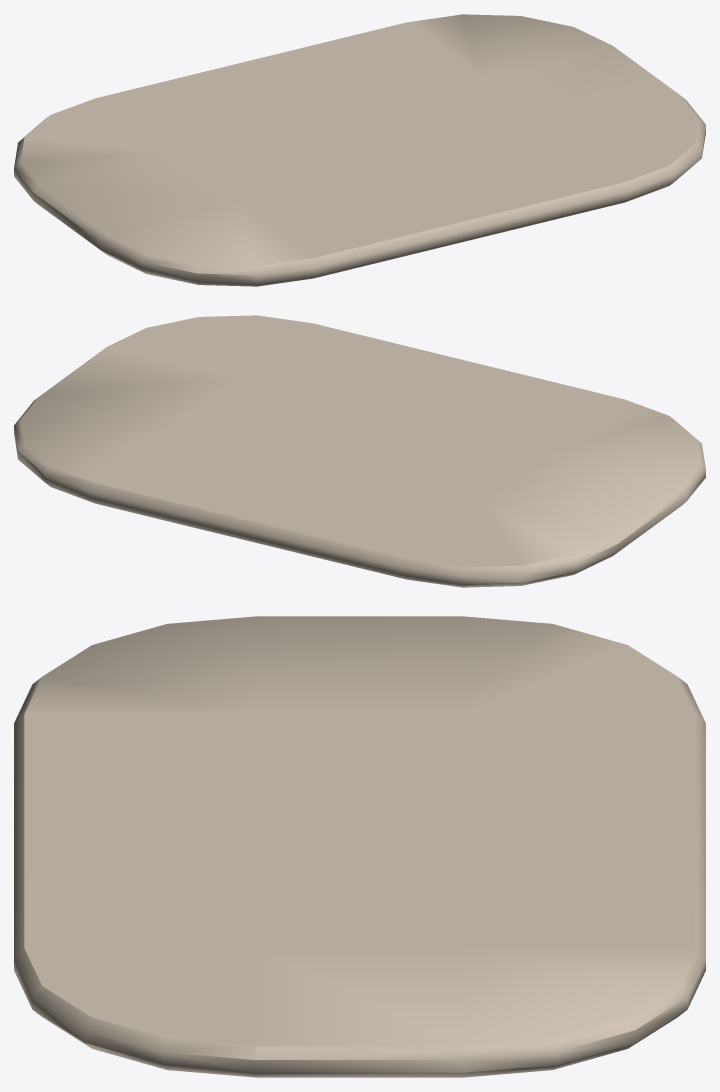
File: rug_oval_A.obj
3 renders of one model, top to bottom at view 1: azimuth 30°, elevation 25°; view 2: azimuth 150°, elevation 25°; view 3: azimuth 270°, elevation 25°, orthographic. The views are drawn at different scales.
Visible parts, largest first — view 1: rug_oval_A_Cube.021; view 2: rug_oval_A_Cube.021; view 3: rug_oval_A_Cube.021.
Boxes of the visible parts, x1=… form: rug_oval_A_Cube.021: x1=14, y1=14, x2=705, y2=286; rug_oval_A_Cube.021: x1=14, y1=315, x2=705, y2=587; rug_oval_A_Cube.021: x1=14, y1=616, x2=705, y2=1077.
Size of the model in its own units: 3 by 0.1 by 2.
1 material, 1 textured.
